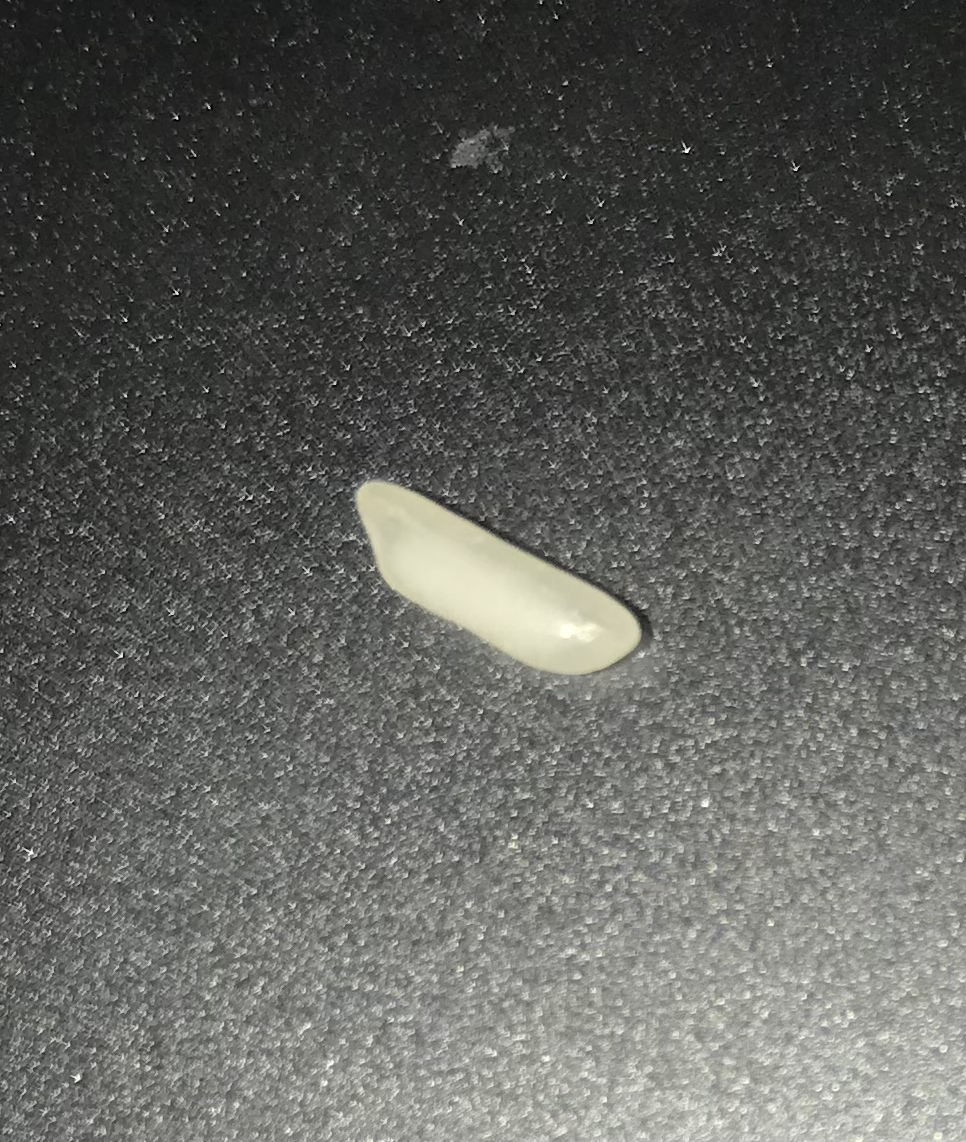Gao Thom My: (328, 438, 657, 699)
